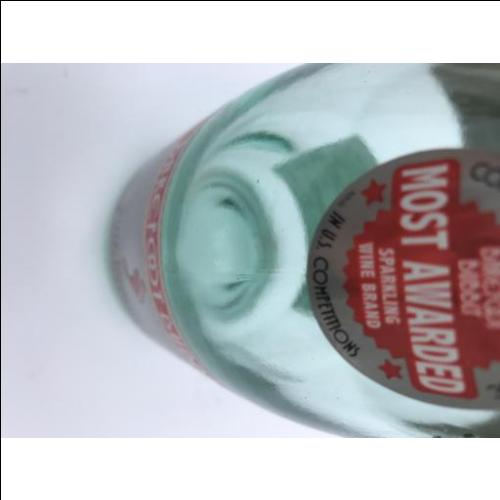glass: (113, 61, 499, 431)
